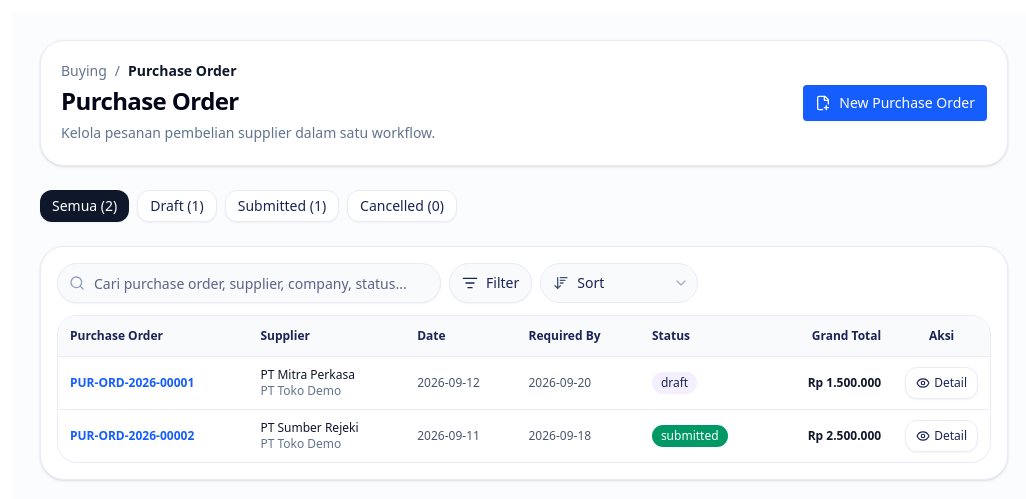
PurchaseOrdersPage › navigates directly to detail page when row is clicked without opening a modal dialog
This screenshot has width=1026, height=499.
Expected: the text "PUR-ORD-2026-00001" is shown, [70, 374, 194, 390]
Click the text "PUR-ORD-2026-00001" at (524, 382), box [58, 356, 990, 409]
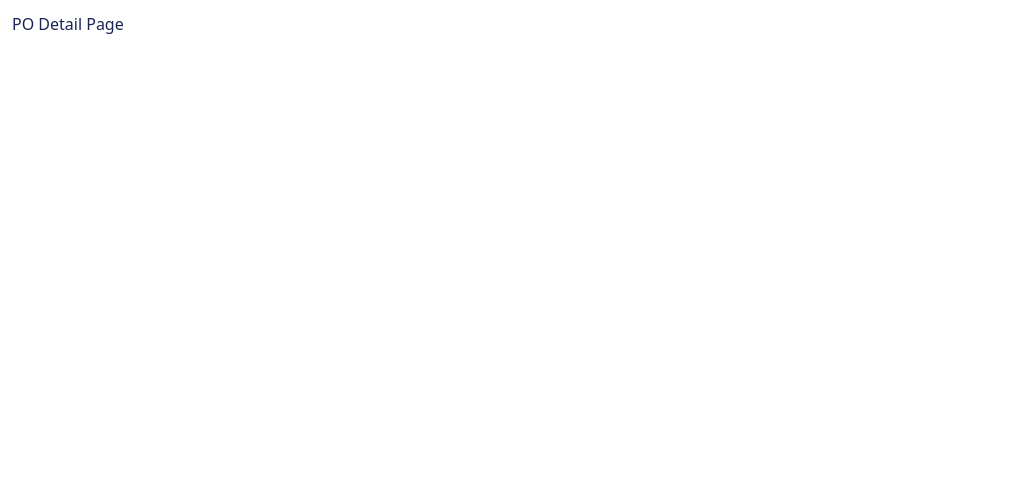
Result: the text "PO Detail Page" is shown at [12, 13, 124, 35]
